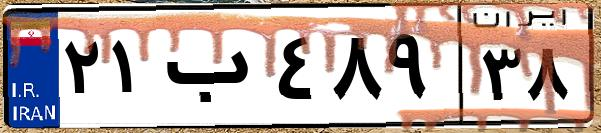1: (110, 28, 158, 98)
2: (57, 26, 110, 100)
3: (475, 38, 525, 113)
4: (270, 28, 330, 110)
8: (330, 28, 385, 110), (525, 38, 570, 115)
9: (385, 28, 445, 110)
ب: (158, 20, 270, 120)
